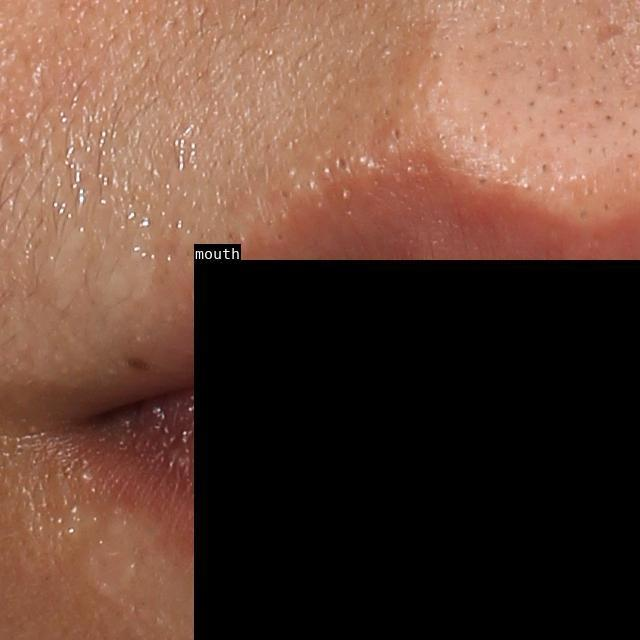atrophic_scar: (594, 22, 626, 51)
comedo: (335, 153, 351, 175)
nevus: (125, 355, 152, 371)
